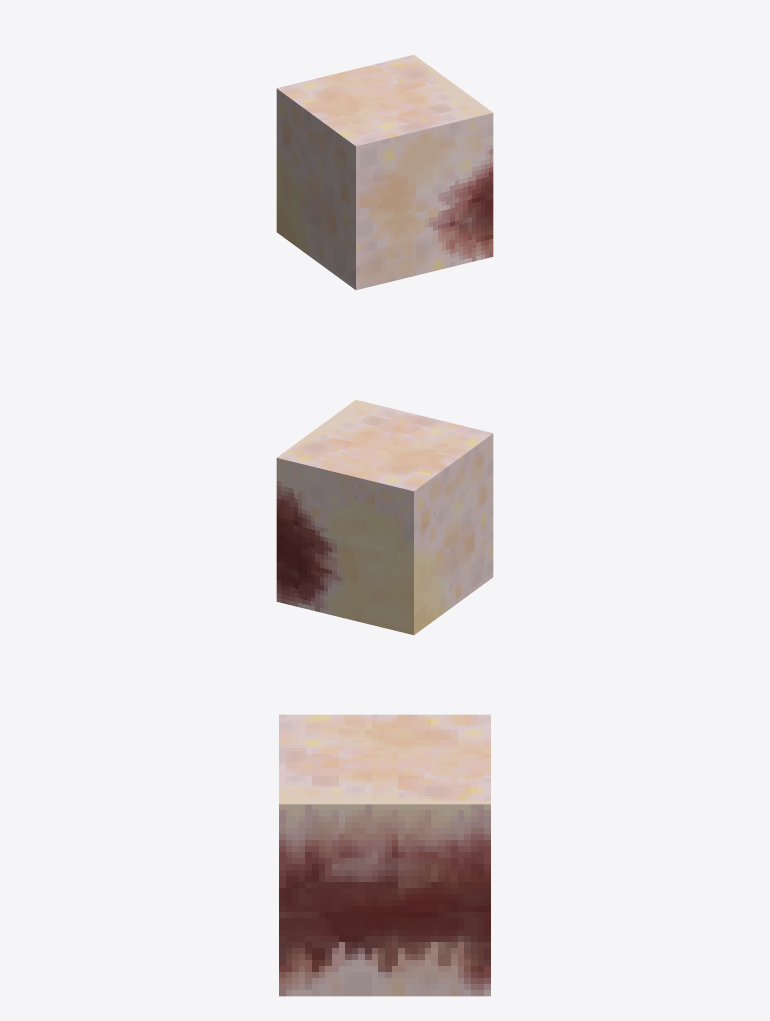
The model's file is pluto.gltf.
The picture shows the model from 3 angles, top to bottom: view 1: azimuth 30°, elevation 25°; view 2: azimuth 150°, elevation 25°; view 3: azimuth 270°, elevation 25°; orthographic projection. The views are drawn at different scales.
Parts seen in each view (by area): view 1: cube; view 2: cube; view 3: cube.
Boxes of the visible parts, x1=… form: cube: x1=276, y1=55, x2=493, y2=290; cube: x1=276, y1=400, x2=493, y2=635; cube: x1=279, y1=714, x2=490, y2=996.
Size of the model in its own units: 13.5 by 4 by 14.
1 material, 1 textured.
